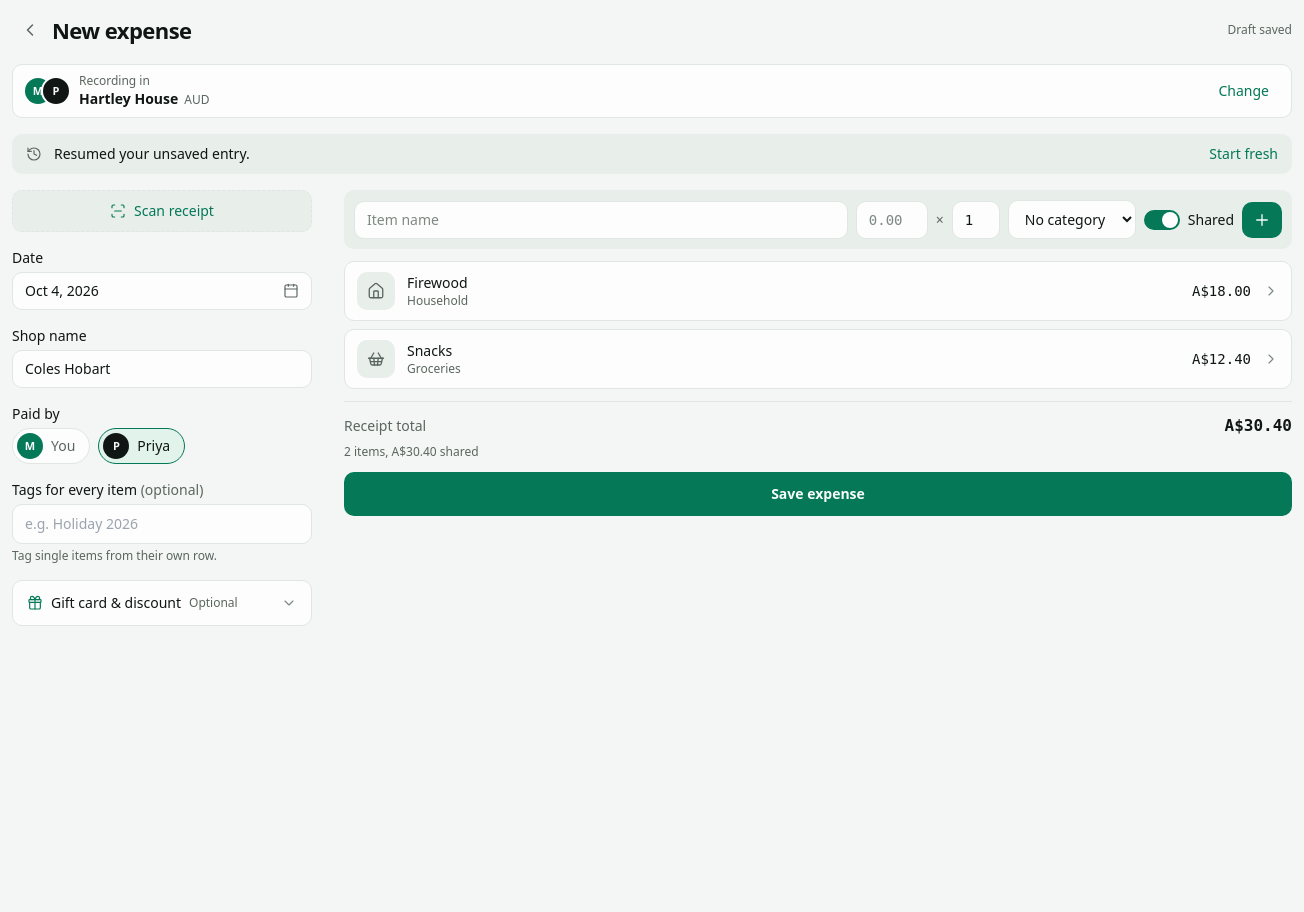
Test: ExpenseEditor changing group › when the target group already has an unsaved entry › asks before replacing the target group's unsaved entry
Click the button with aria-label "change group".
click(1244, 91)  # box x1=1208 y1=75 x2=1279 y2=107
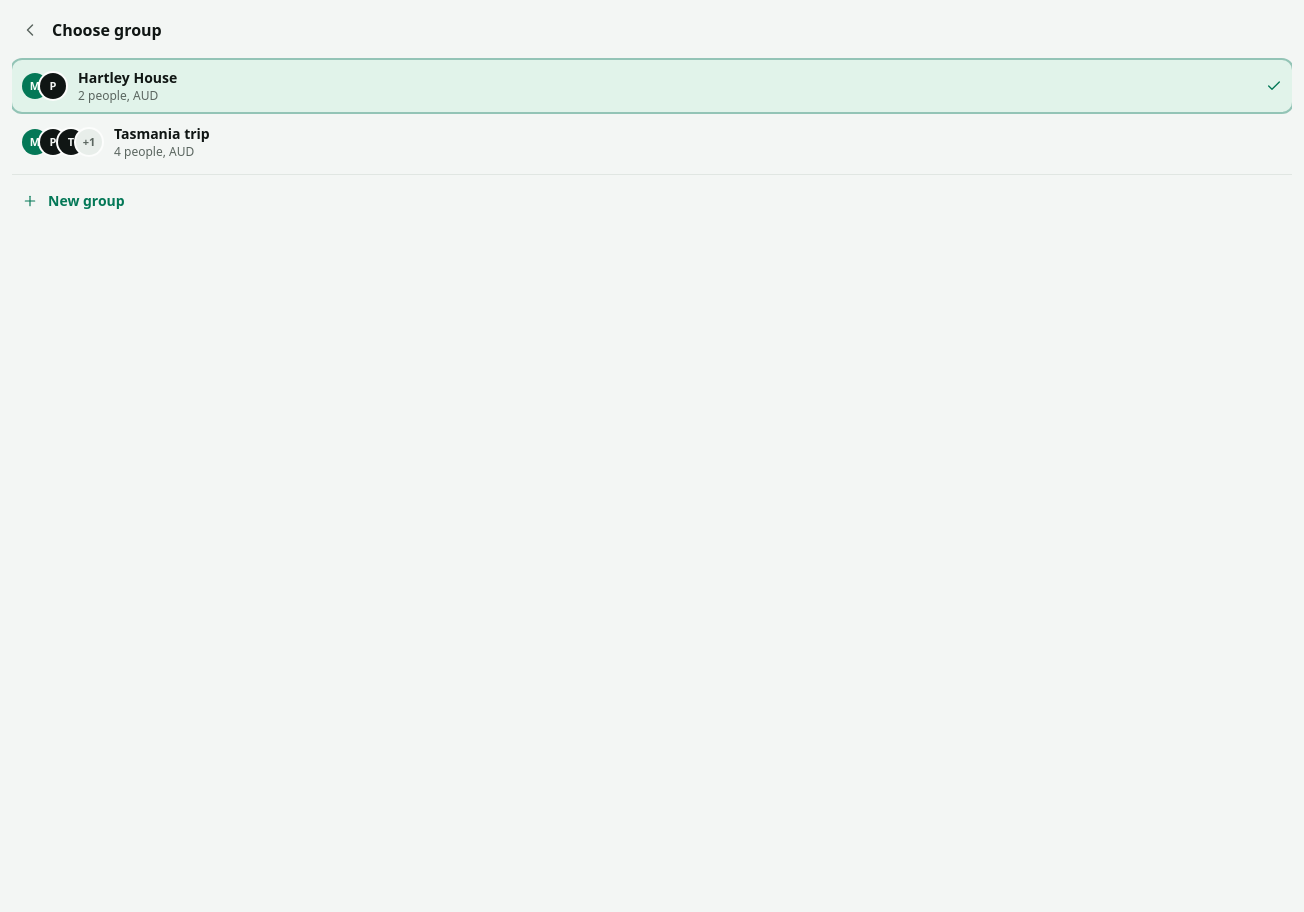
Click the option "M P T +1 Tasmania trip 4 people, AUD".
click(116, 142)  # box x1=22 y1=124 x2=210 y2=160
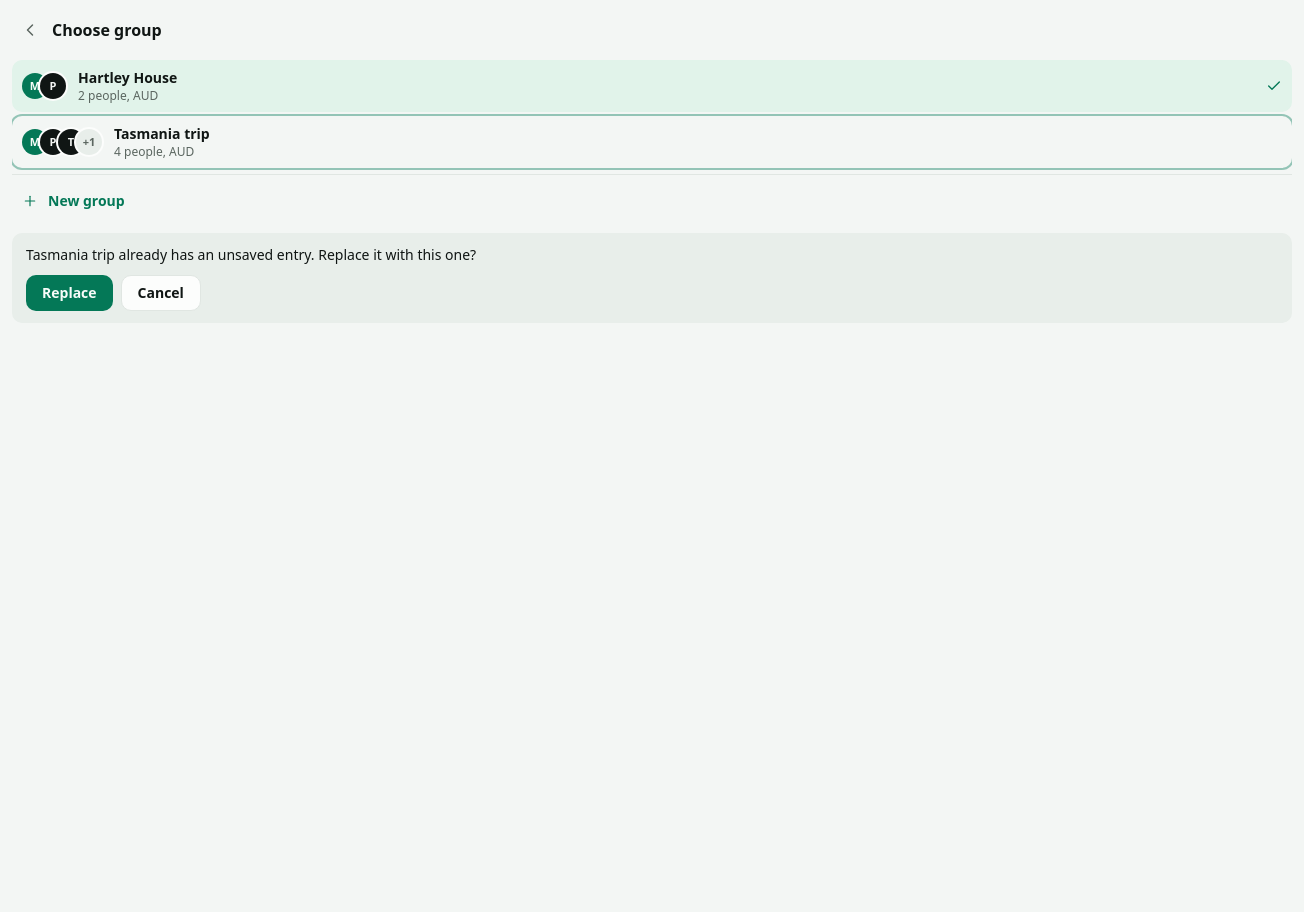
Check: the text "Tasmania trip already has an unsaved entry. Replace it with this one?" is shown, box x1=26 y1=245 x2=476 y2=264
